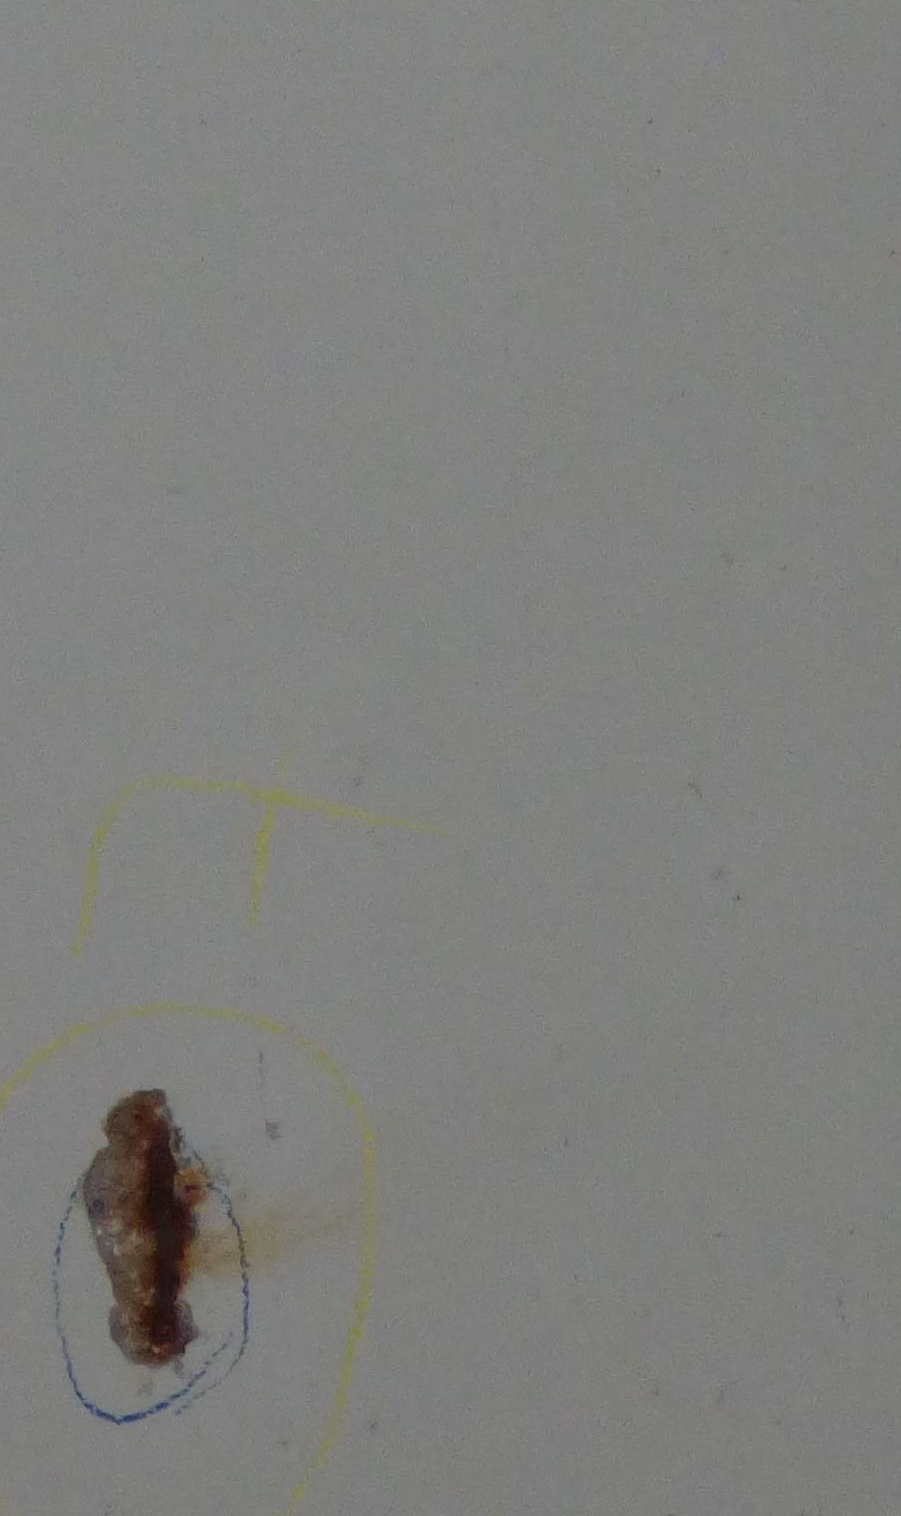Exposed reinforcement: (145, 1115, 181, 1344)
Spalling: (82, 1087, 202, 1370)
